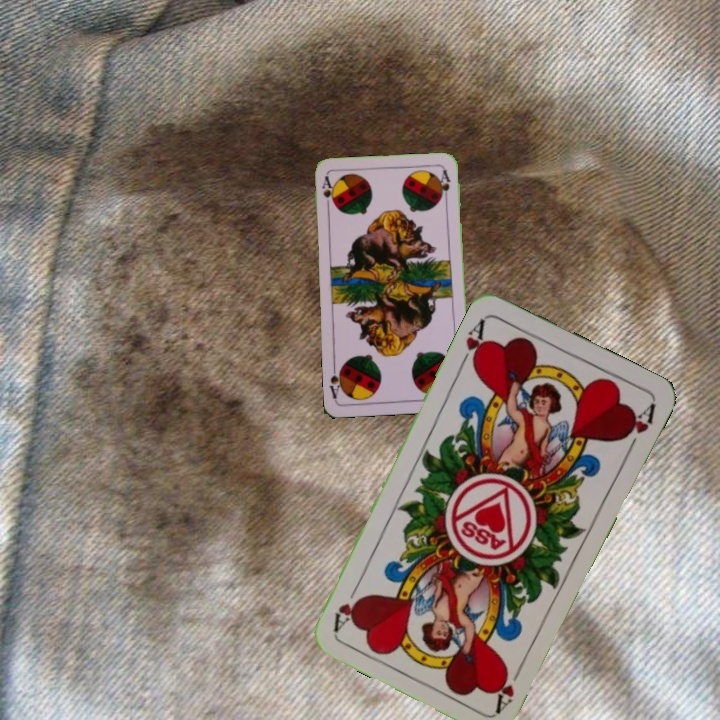HA: (490, 659, 527, 714), (455, 314, 490, 370)
SA: (318, 173, 336, 213)
